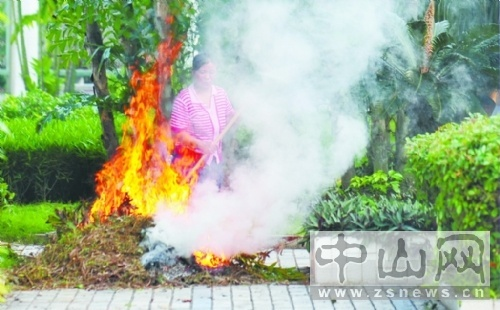fire: (92, 19, 205, 222), (193, 245, 231, 267)
